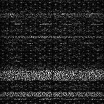lte: (1, 68, 104, 80), (1, 91, 104, 96), (1, 34, 104, 38)
